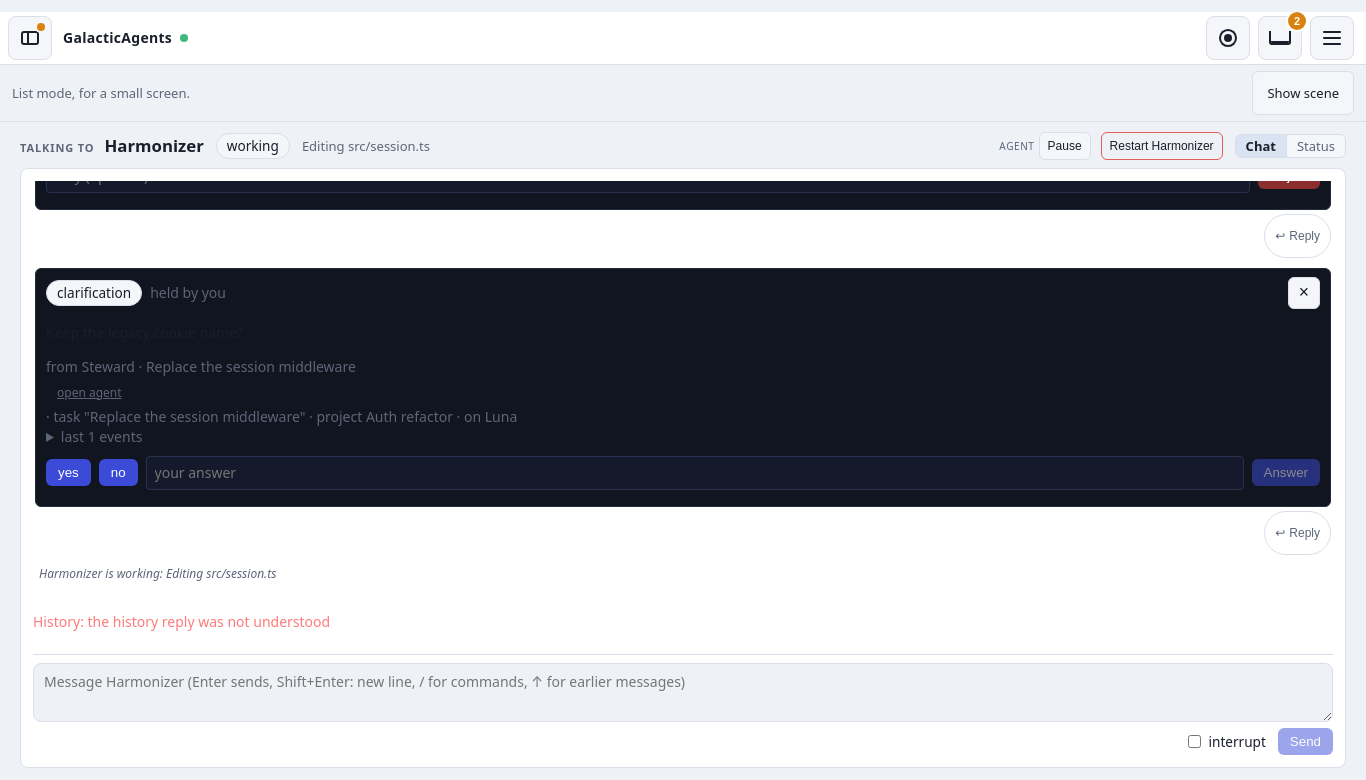
Scenario: the compact top bar (P3-12) › unfolds the notification settings inside the menu
The image size is (1366, 780).
(page scrolled)
Click the button named "Menu": (1332, 38) 1310,16 -> 1354,60
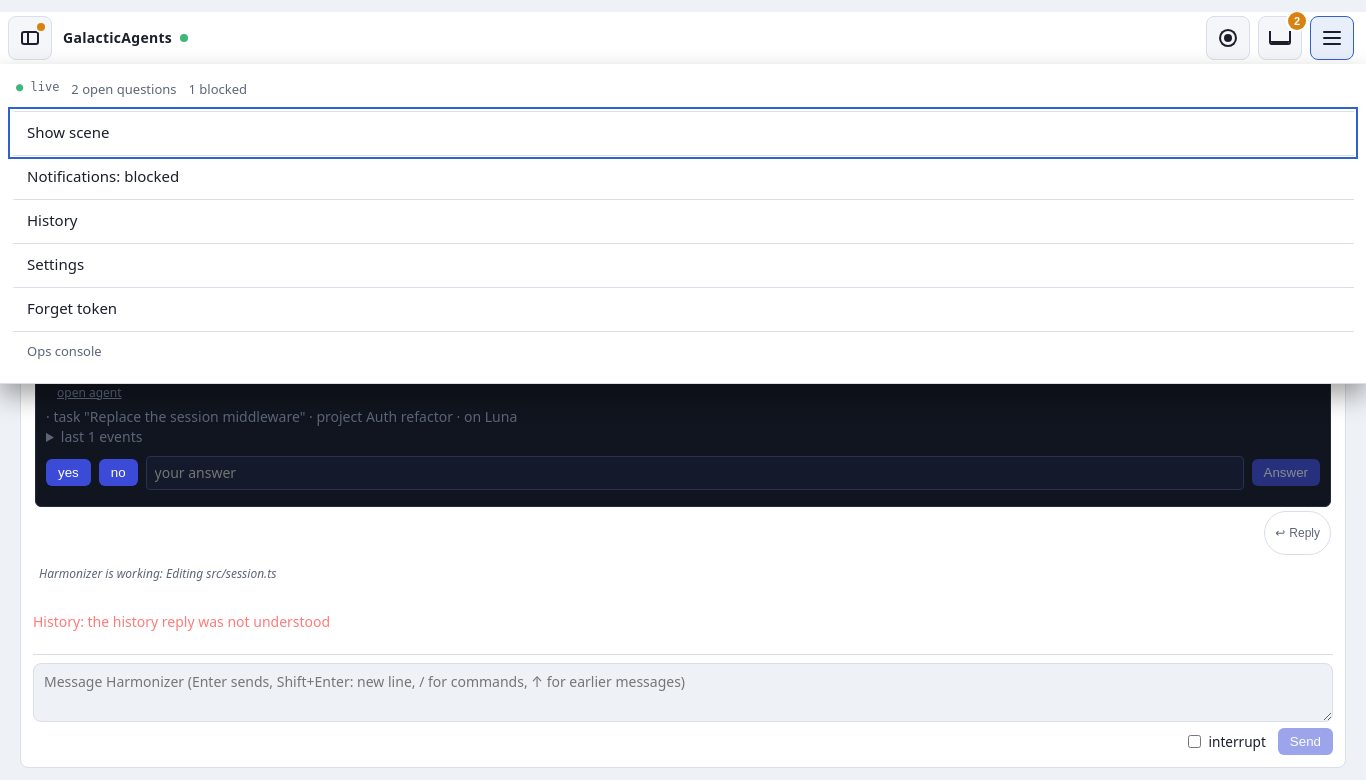
Click the button "Notifications: blocked": (76, 176) 12,155 -> 1354,199
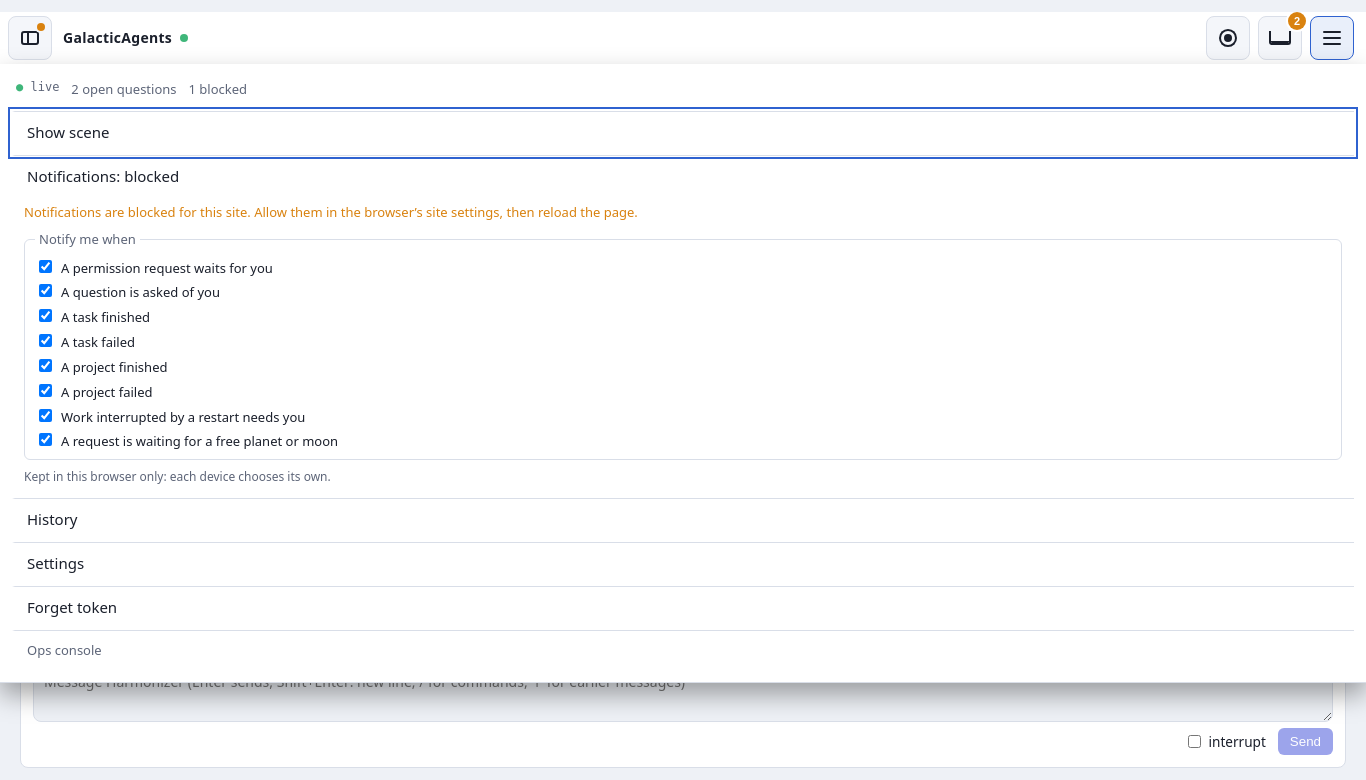
expect the text "Kept in this browser only: each device chooses its own." is shown: met, box 24,468 -> 331,485
